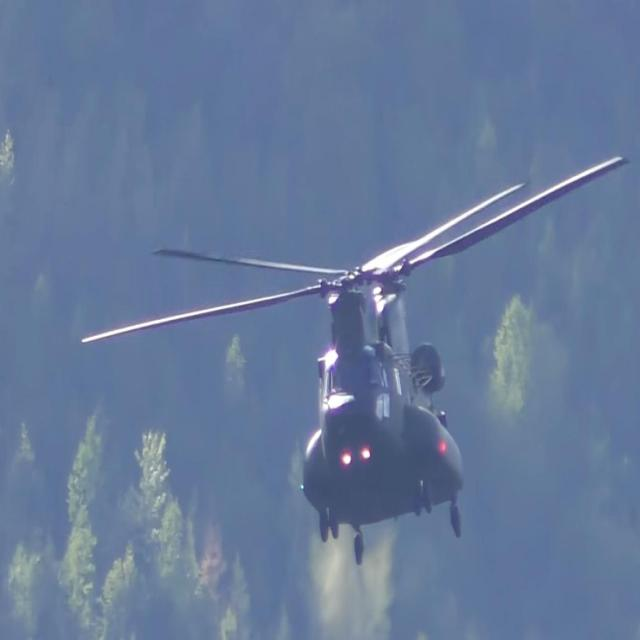Helicopter: (216, 186, 534, 565)
